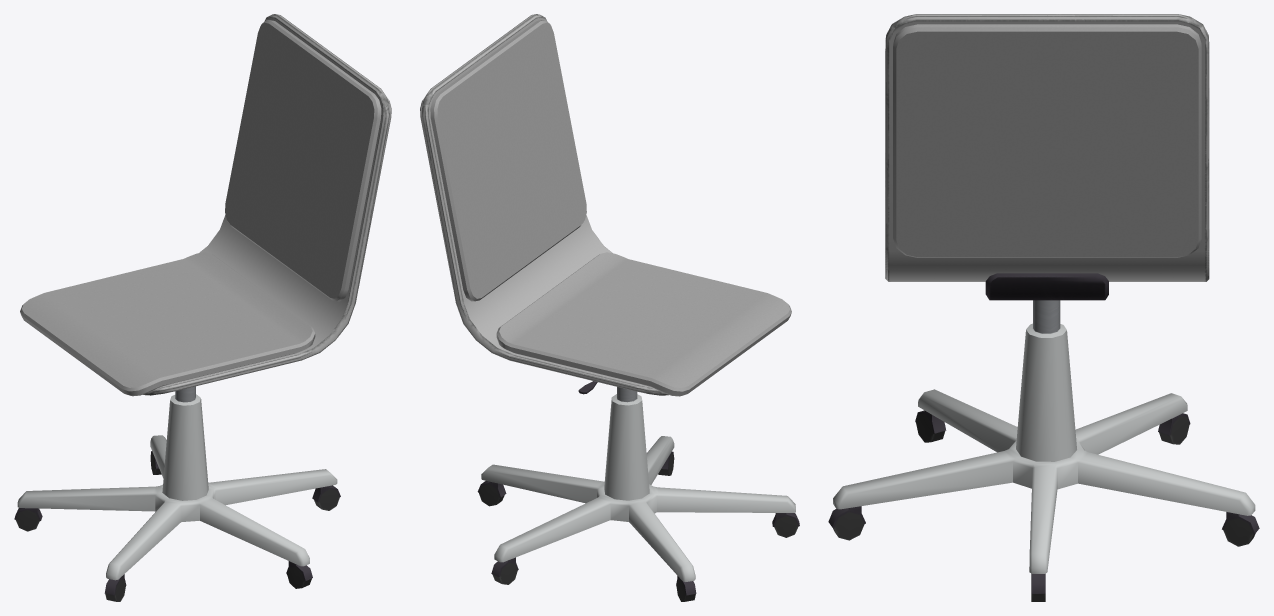
File: chair.glb
3 renders of one model, left to right at view 1: azimuth 30°, elevation 25°; view 2: azimuth 150°, elevation 25°; view 3: azimuth 270°, elevation 25°, orthographic. The views are drawn at different scales.
Visible parts, largest first — view 1: Object_2; view 2: Object_2; view 3: Object_2.
Boxes of the visible parts, <box> form: Object_2: <box>14,14,391,601</box>; Object_2: <box>420,14,799,601</box>; Object_2: <box>828,14,1259,601</box>.
Bounding box in the file's own units: 0.6907 × 1.08 × 0.7126.
1 material, 1 textured.
